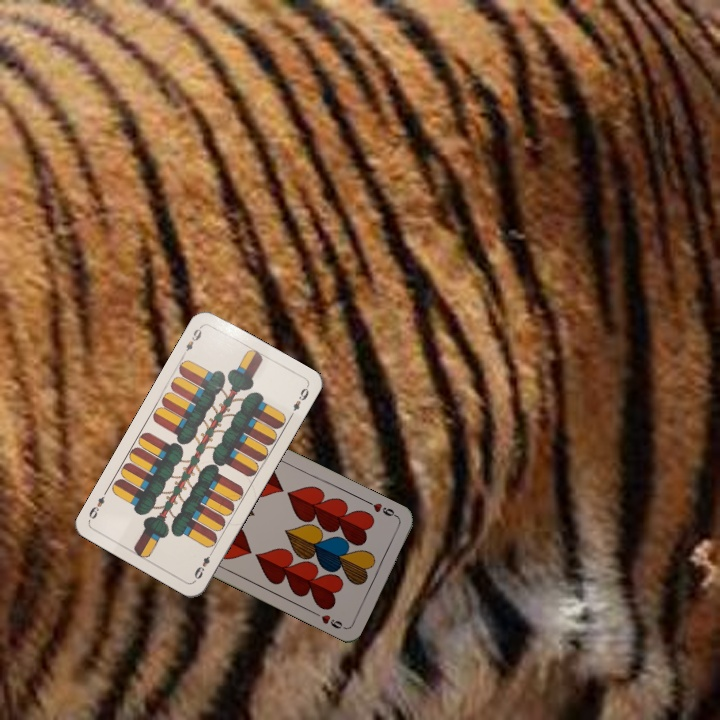E9: (190, 546, 216, 583), (178, 322, 204, 359)
H9: (363, 497, 401, 520)
